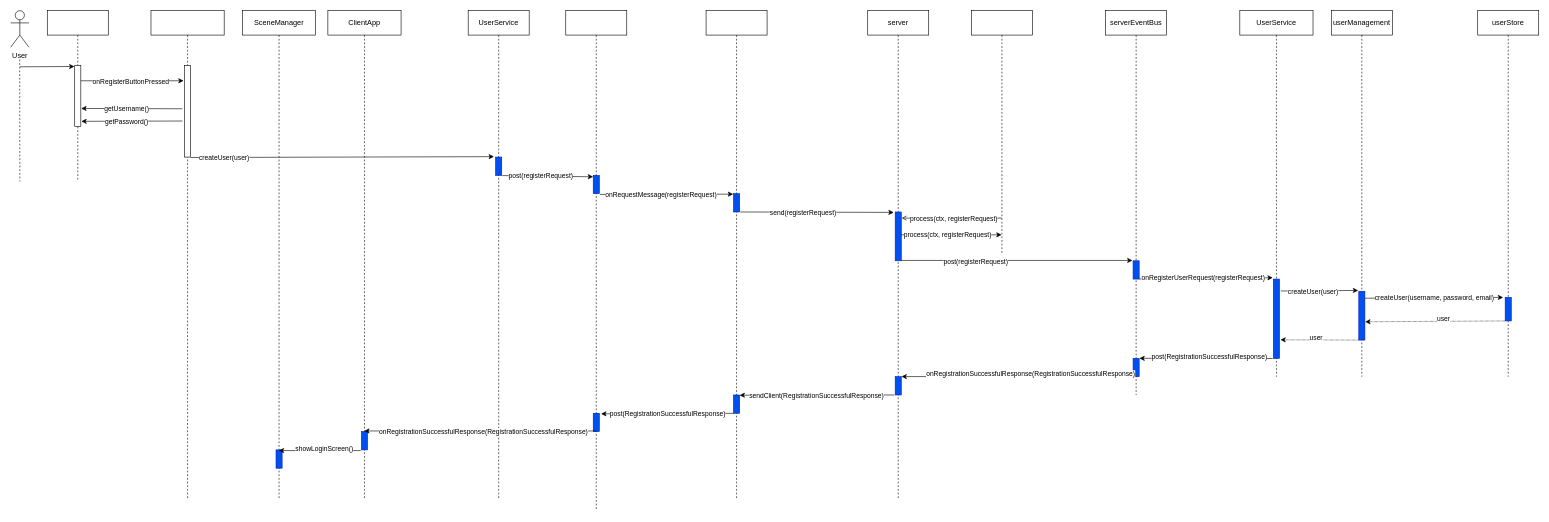
Image size: 1549x522. Some labels were removed from this diagram. The box of each missing label's shape, as (x1, y1, x2, y2) in pixels:
ClientConnection: (705, 10, 767, 499)
ClientEventBus: (565, 10, 627, 511)
RegistrationPresenter: (150, 10, 224, 499)
Registrationview: (47, 10, 108, 181)
serverHandler: (971, 10, 1032, 255)
